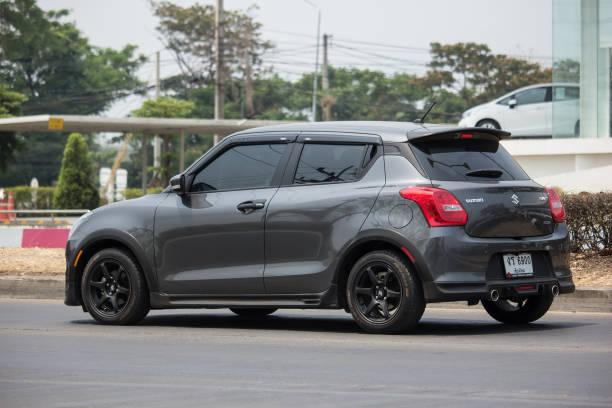suzuki: (506, 191, 526, 210)
